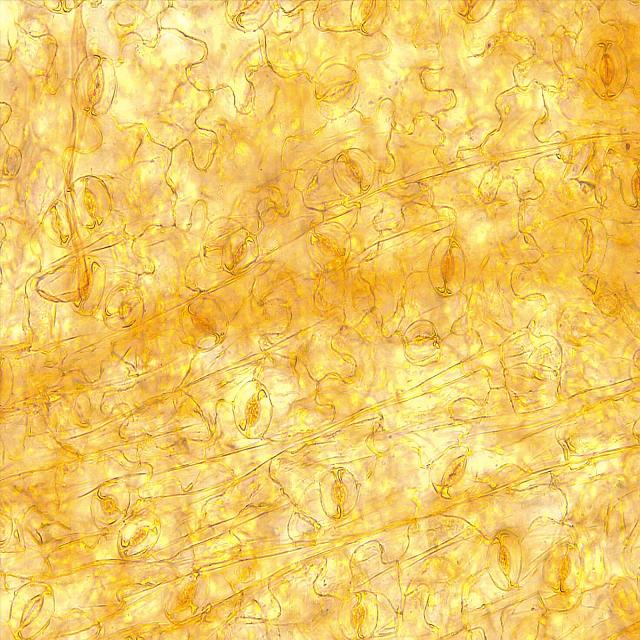Stomata: (70, 53, 120, 121), (4, 579, 57, 640), (428, 442, 481, 502), (563, 212, 610, 277), (312, 61, 362, 122), (584, 38, 630, 102), (230, 376, 274, 442), (180, 296, 230, 354), (161, 569, 211, 626), (69, 171, 115, 232), (426, 233, 467, 300), (306, 219, 354, 275), (484, 526, 524, 593), (67, 253, 106, 320), (114, 510, 163, 563), (331, 146, 378, 200), (99, 283, 147, 334), (317, 466, 361, 521), (540, 540, 582, 596), (336, 588, 381, 640), (88, 478, 134, 528), (219, 226, 262, 276), (401, 317, 443, 366), (223, 0, 280, 35), (41, 197, 78, 248), (348, 0, 389, 38), (618, 158, 640, 213), (449, 0, 496, 25)
